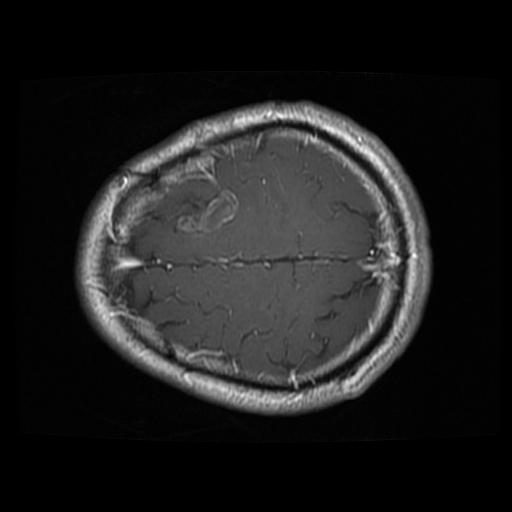glioma: (172, 187, 241, 235)
